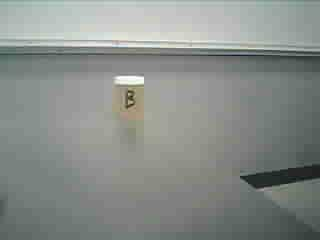Bottle B: (107, 69, 156, 128)
